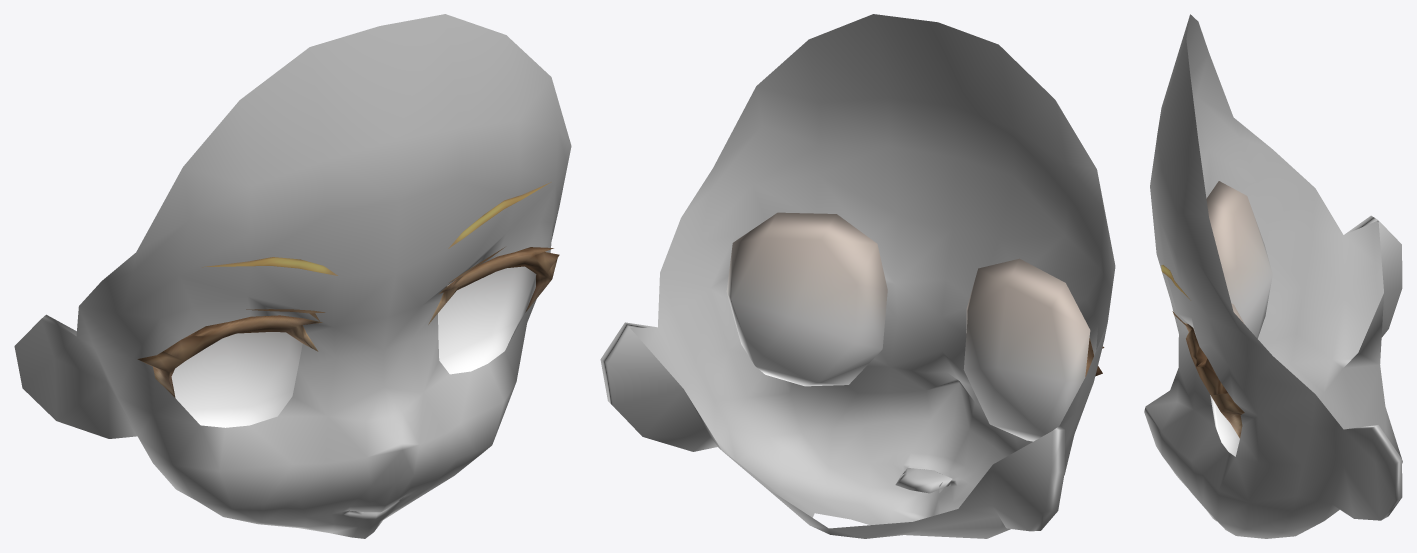
The picture shows the model from 3 angles, left to right: view 1: azimuth 30°, elevation 25°; view 2: azimuth 150°, elevation 25°; view 3: azimuth 270°, elevation 25°; orthographic projection. The views are drawn at different scales.
Parts seen in each view (by area): view 1: Face_02; view 2: Face_02; view 3: Face_02.
Boxes of the visible parts, left/top/right/bottom form: Face_02: left=14, top=14, right=571, bottom=538; Face_02: left=600, top=14, right=1115, bottom=538; Face_02: left=1144, top=14, right=1402, bottom=538.
Bounding box in the file's own units: 28.07 × 28.11 × 13.66.
